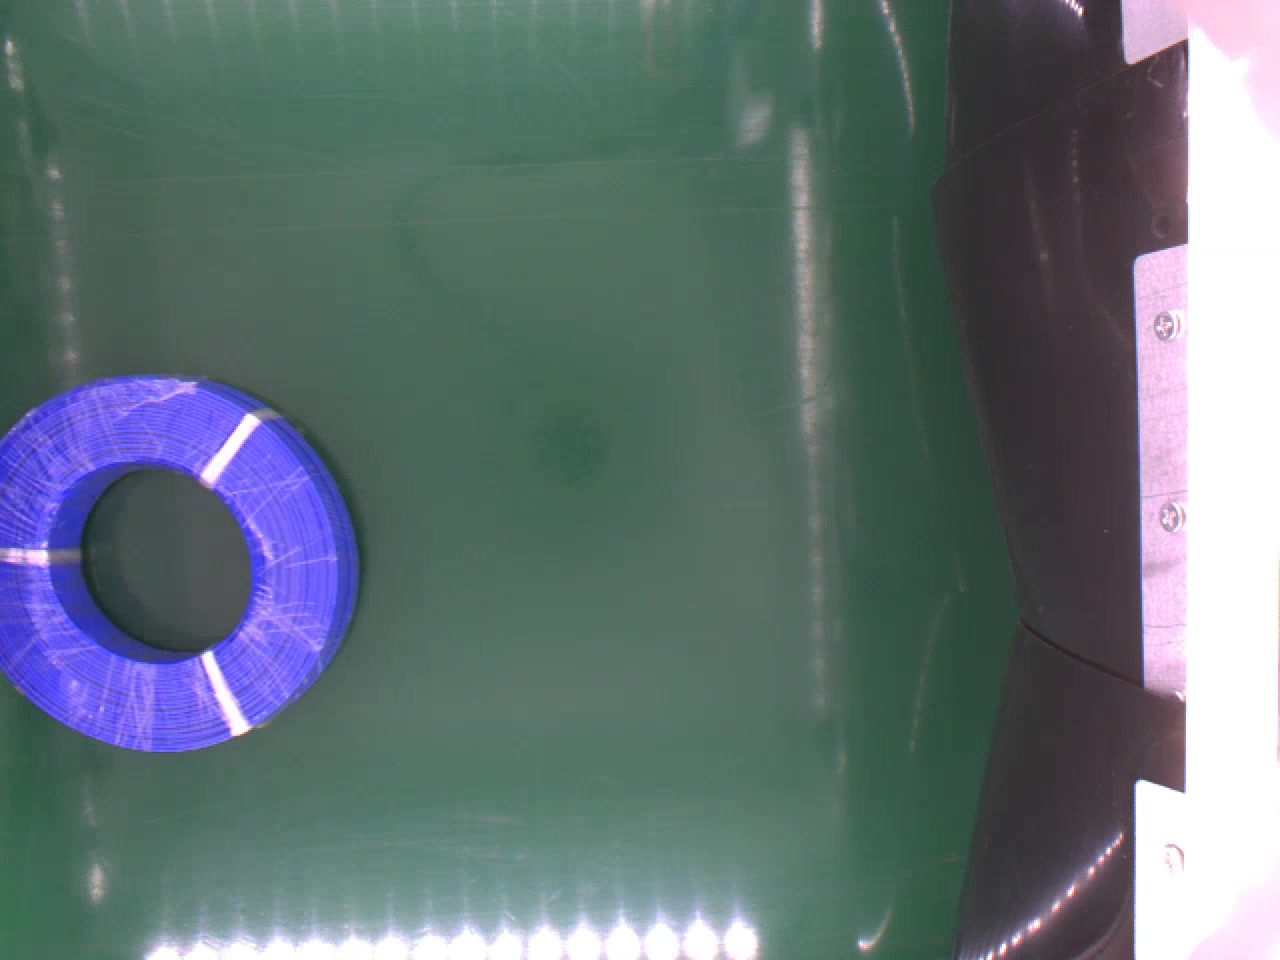blue: (0, 375, 355, 755)
